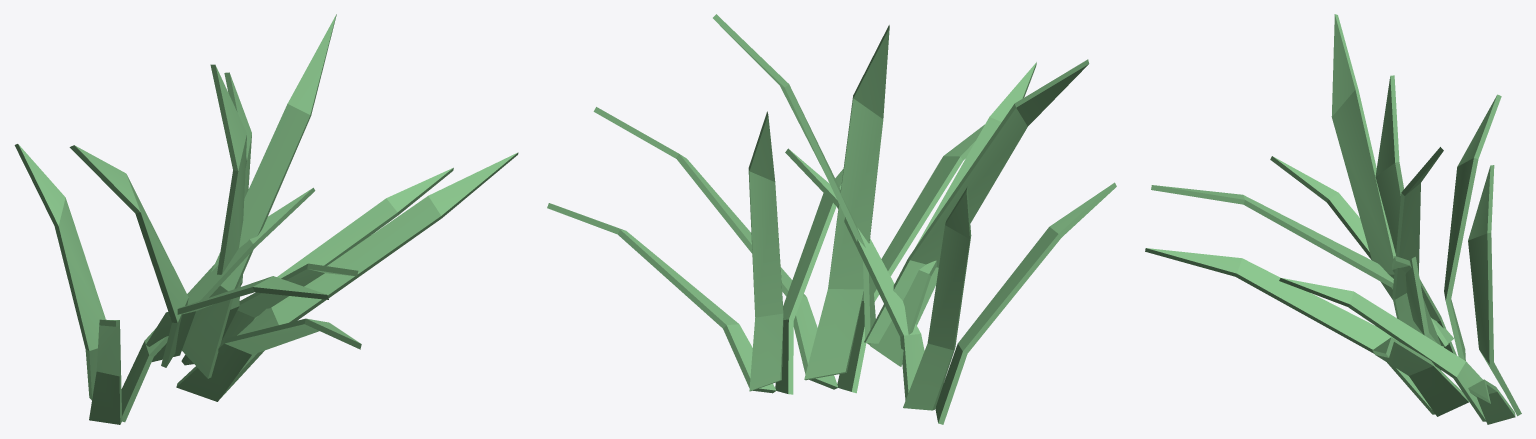
File: grass1.fbx
3 renders of one model, left to right at view 1: azimuth 30°, elevation 25°; view 2: azimuth 150°, elevation 25°; view 3: azimuth 270°, elevation 25°, orthographic. The views are drawn at different scales.
Visible parts, largest first — view 1: polySurface25; view 2: polySurface25; view 3: polySurface25.
Part boxes in pixels (x1,y1,x2,y2): polySurface25: (14, 14, 518, 424); polySurface25: (547, 14, 1116, 424); polySurface25: (1145, 14, 1521, 424).
Size of the model in its own units: 38.09 by 27.53 by 28.69.
